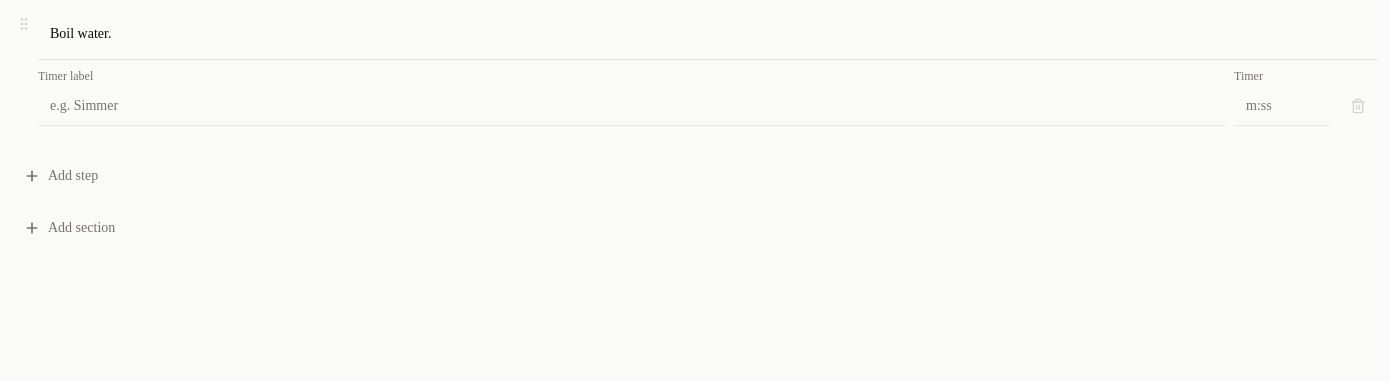
Test: InstructionsEditor › adds a section
Step 1. Click the button "Add section" → point(82, 228), box [12,206,1378,250]
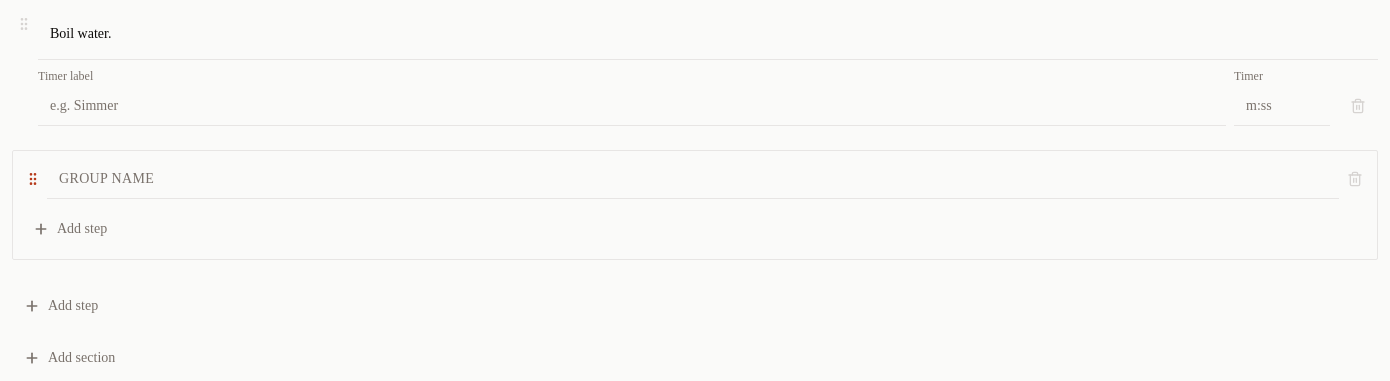
Expected: the field labelled "Group name" is shown, [47,159,1339,199]
